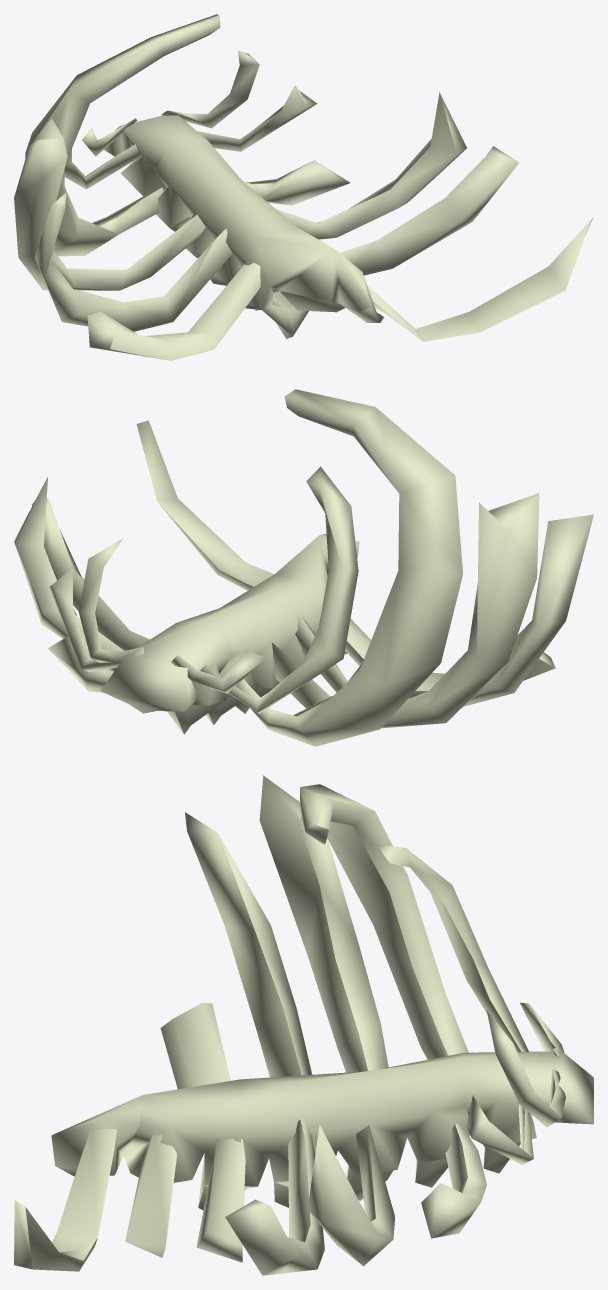
File: T_broken_rib_3.fbx
The picture shows the model from 3 angles, top to bottom: view 1: azimuth 30°, elevation 25°; view 2: azimuth 150°, elevation 25°; view 3: azimuth 270°, elevation 25°; orthographic projection. The views are drawn at different scales.
Parts seen in each view (by area): view 1: Cylinder; view 2: Cylinder; view 3: Cylinder.
Boxes of the visible parts, x1,y1,x2,y2 form: Cylinder: [14, 14, 593, 360]; Cylinder: [14, 389, 593, 746]; Cylinder: [14, 775, 593, 1275].
Bounding box in the file's own units: 8480 × 5027 × 7023.
